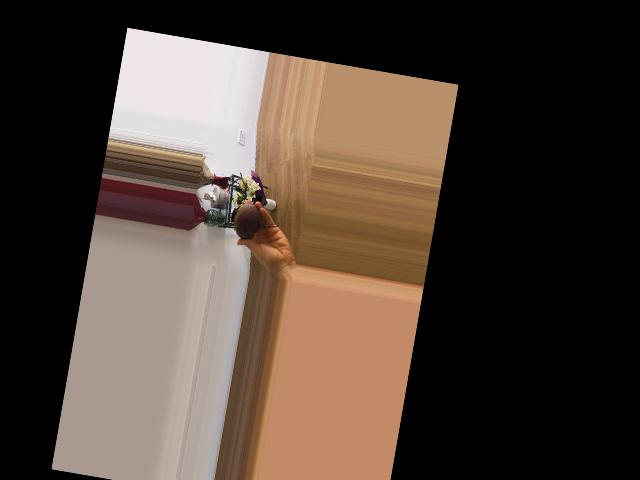beet: (228, 200, 281, 243)
